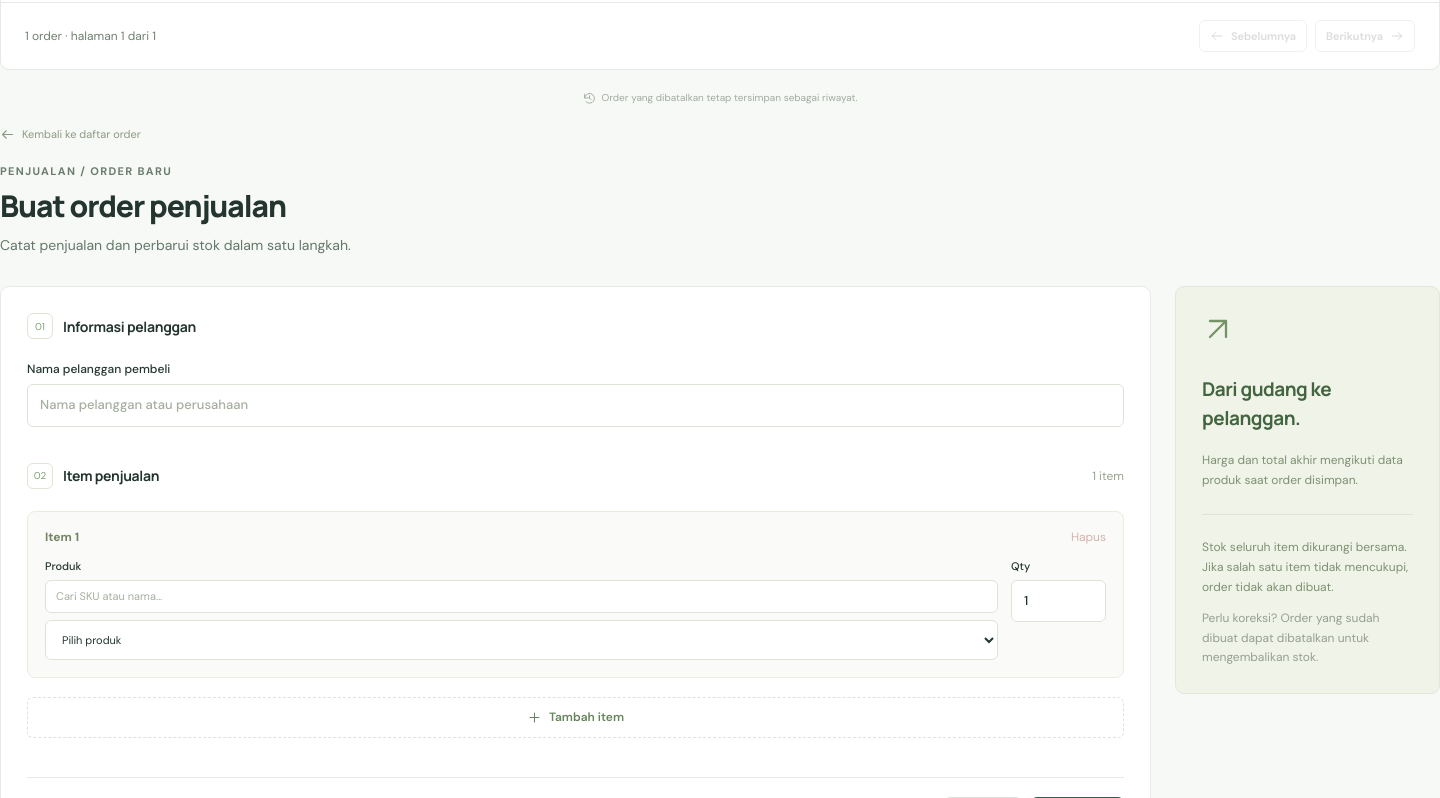
it: shows a newly created customer order in an already cached list
(page scrolled)
In the field labelled "Nama pelanggan pembeli": (576, 406) [27,384,1124,427], type "Pelanggan Baru"
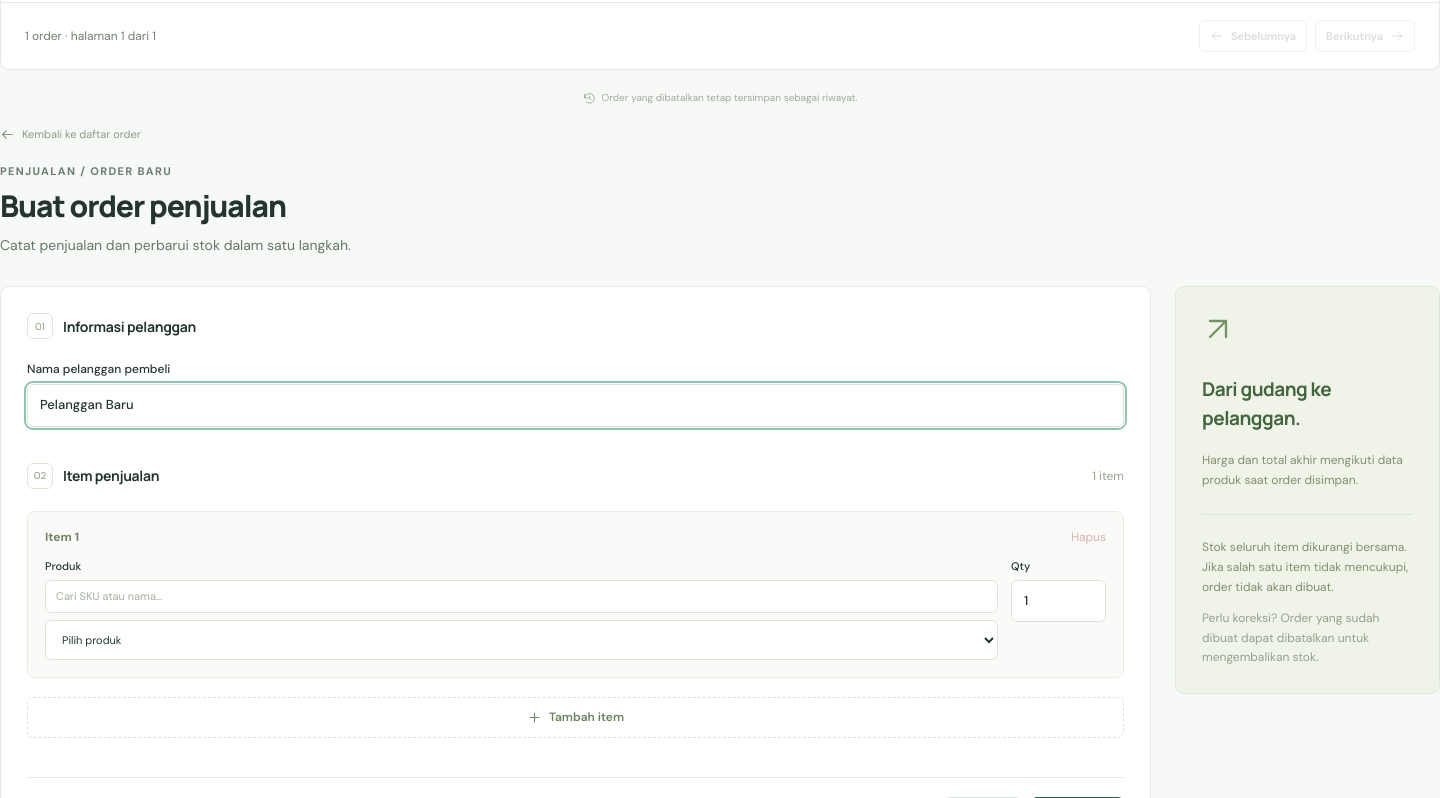
Select "KRT-A4-80 · Kertas A4 (stok 10)" in the dropdown named "Produk item 1": (522, 640) [45,620,998,660]
(page scrolled)
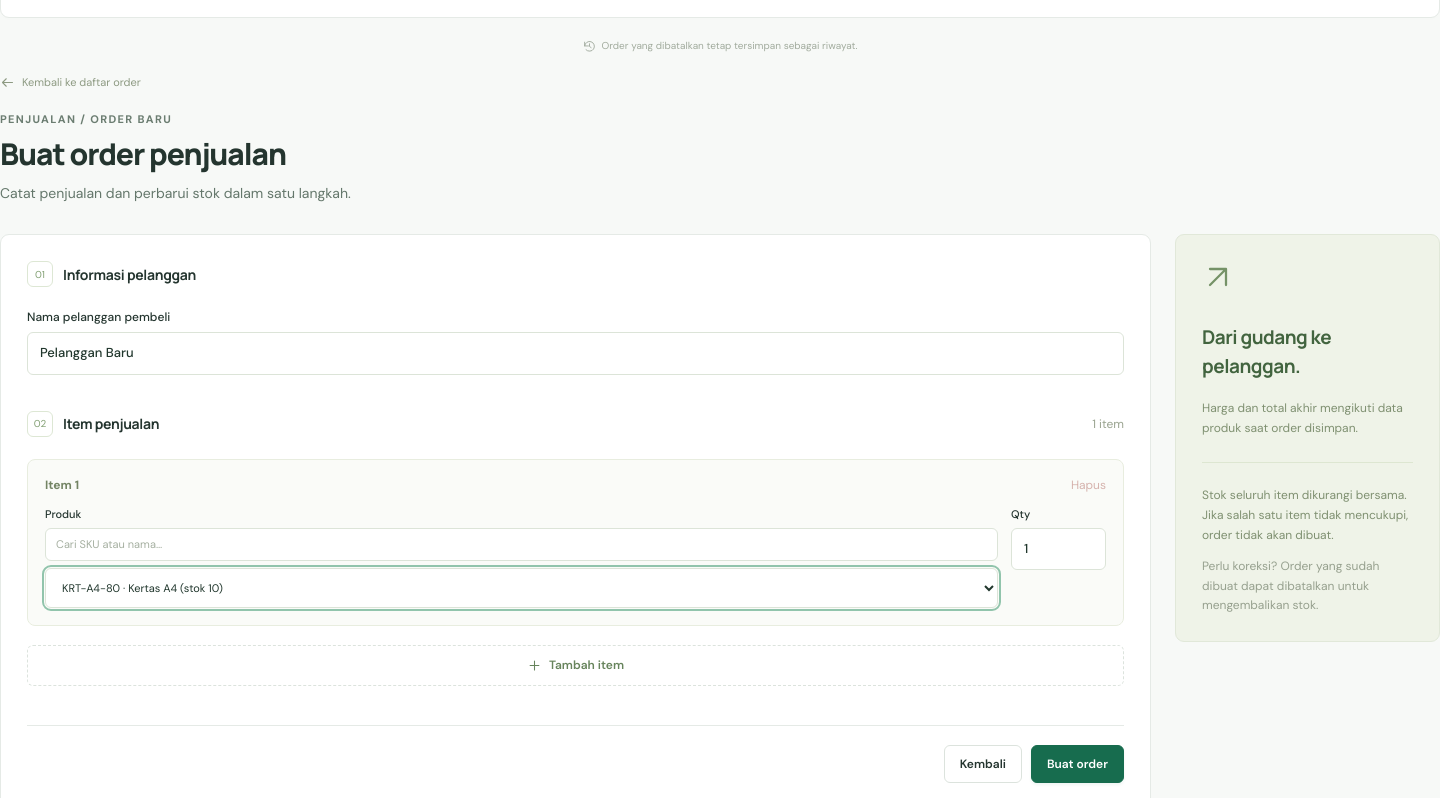
Click the button "Buat order": (1077, 764) [1031,745,1124,783]
(page scrolled)
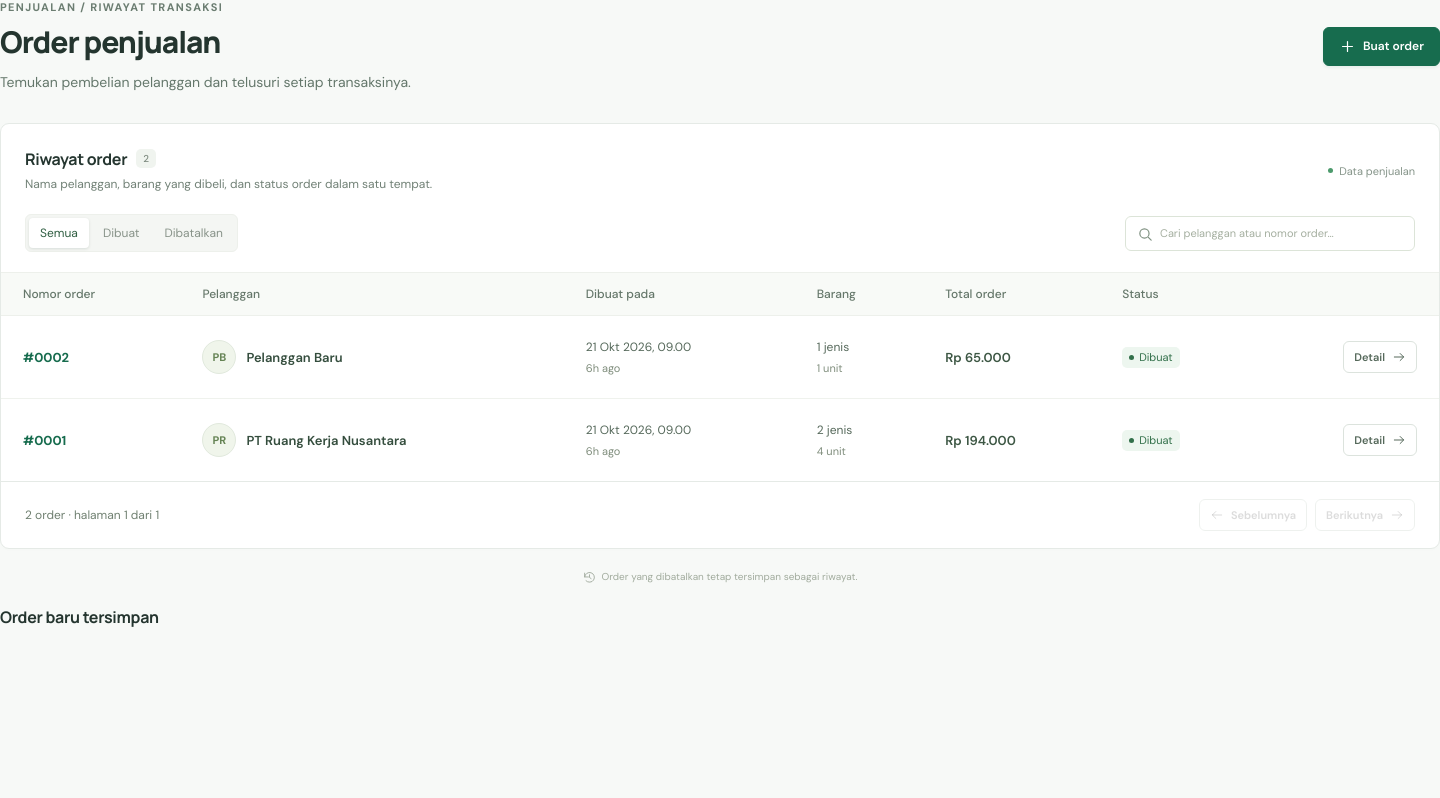
Now the heading "Order baru tersimpan" is shown, box [0,606,159,628]
Now the row "Pelanggan Baru" is shown, box [1,316,1439,399]
